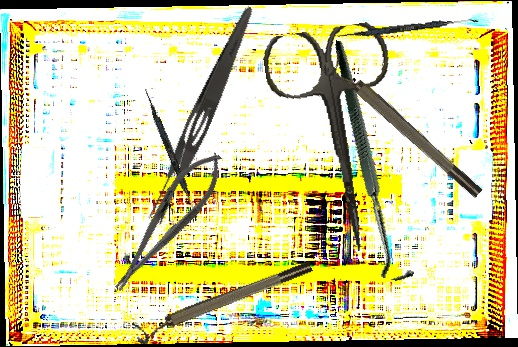Dressing Forceps: (143, 0, 259, 229)
Fixation Ring: (319, 50, 486, 207), (131, 257, 317, 347)
Hook Surgical: (280, 40, 467, 285)
Iris Scissors: (260, 19, 418, 262)
Needle Holder: (100, 142, 235, 301)
Spatula Surgical: (140, 88, 203, 222), (337, 14, 478, 42)
